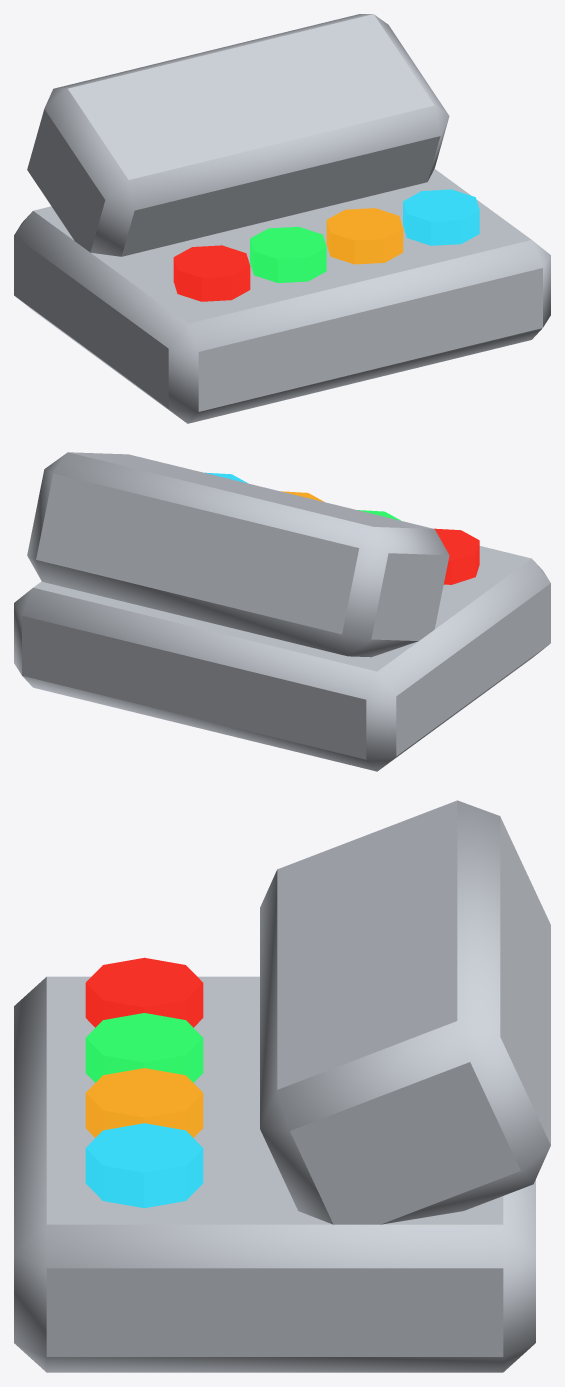
File: terminal_desk_intercom.glb
3 views of the same model, one above another, from view 1: azimuth 30°, elevation 25°; view 2: azimuth 150°, elevation 25°; view 3: azimuth 270°, elevation 25° (orthographic). The views are drawn at different scales.
Parts seen in each view (by area): view 1: terminal_desk_intercom; view 2: terminal_desk_intercom; view 3: terminal_desk_intercom.
Part boxes in pixels (x1=…): terminal_desk_intercom: x1=14, y1=14, x2=550, y2=423; terminal_desk_intercom: x1=14, y1=452, x2=550, y2=771; terminal_desk_intercom: x1=14, y1=800, x2=550, y2=1372.
Bounding box in the file's own units: 0.2 × 0.1143 × 0.1646.
